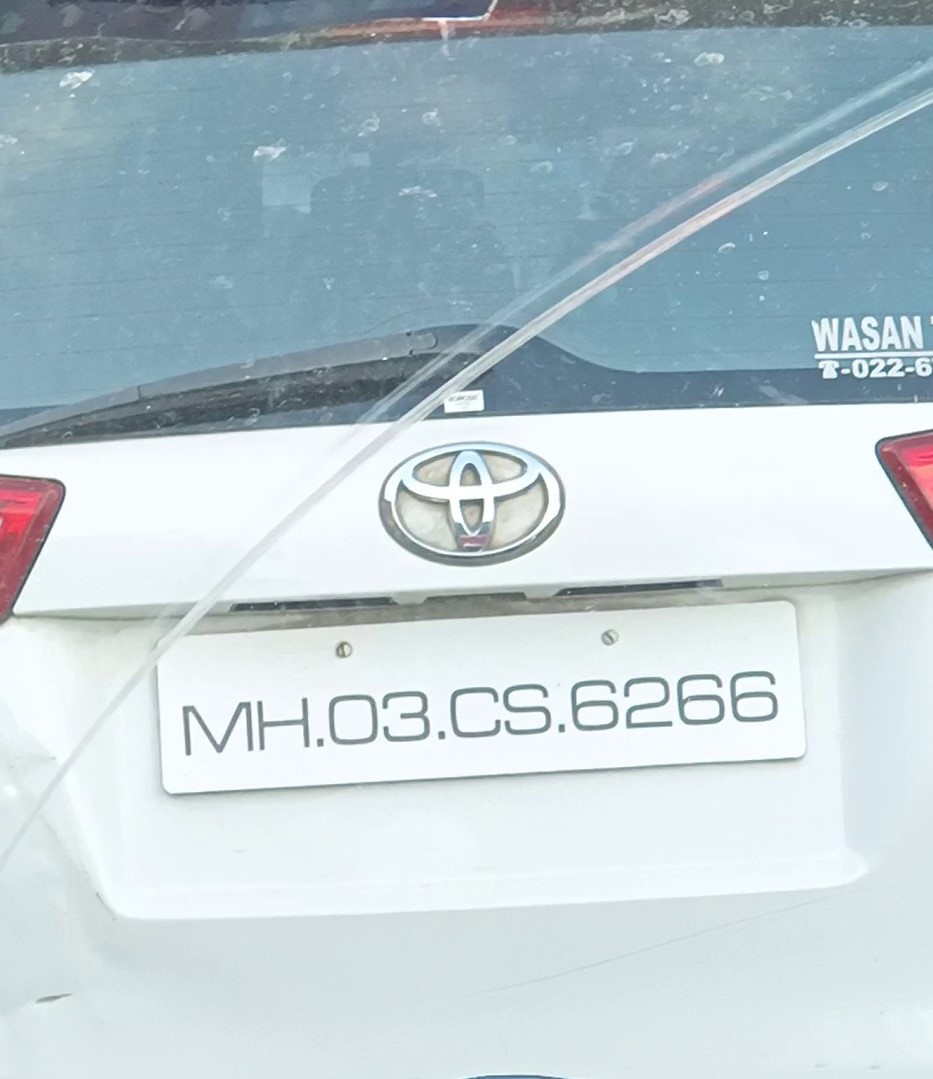MH03CS6266: (159, 597, 807, 797)
